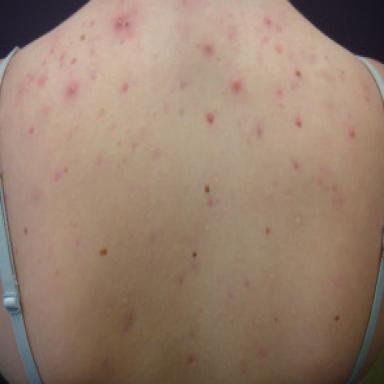acne: (123, 303, 135, 331), (115, 14, 131, 30), (65, 80, 79, 97), (230, 77, 243, 93), (55, 166, 68, 182), (58, 49, 68, 66), (228, 25, 237, 41), (203, 43, 214, 56), (37, 73, 47, 87), (263, 15, 273, 28), (256, 347, 266, 359), (260, 35, 269, 48), (347, 125, 355, 139), (206, 112, 215, 124), (192, 258, 199, 272), (275, 44, 283, 54), (257, 125, 263, 138), (207, 195, 213, 208), (275, 22, 282, 33), (276, 86, 283, 97), (295, 117, 302, 128), (293, 160, 300, 171), (28, 124, 35, 135), (121, 82, 128, 92), (49, 46, 55, 56), (120, 36, 126, 45), (71, 58, 77, 64), (90, 20, 95, 26)
